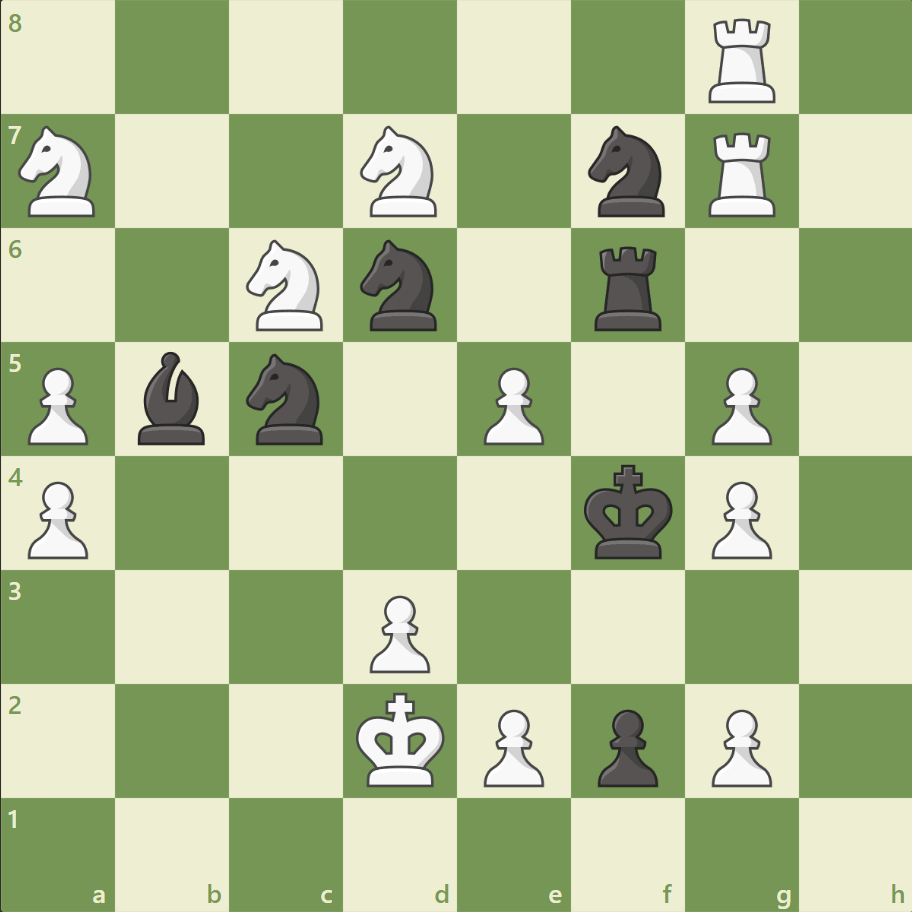K: (351, 685, 451, 793)
N: (351, 121, 449, 223), (238, 234, 335, 337), (11, 121, 108, 223)
P: (20, 359, 95, 450), (474, 359, 549, 450), (701, 359, 776, 450), (20, 473, 95, 564), (701, 473, 776, 564), (474, 700, 549, 791), (701, 700, 776, 791), (361, 586, 435, 677)
R: (700, 12, 783, 109), (700, 125, 783, 222)
b: (131, 347, 215, 449)
k: (579, 458, 679, 566)
n: (351, 234, 449, 337), (579, 121, 676, 223), (238, 348, 335, 450)
p: (588, 700, 662, 791)
r: (587, 239, 670, 336)
